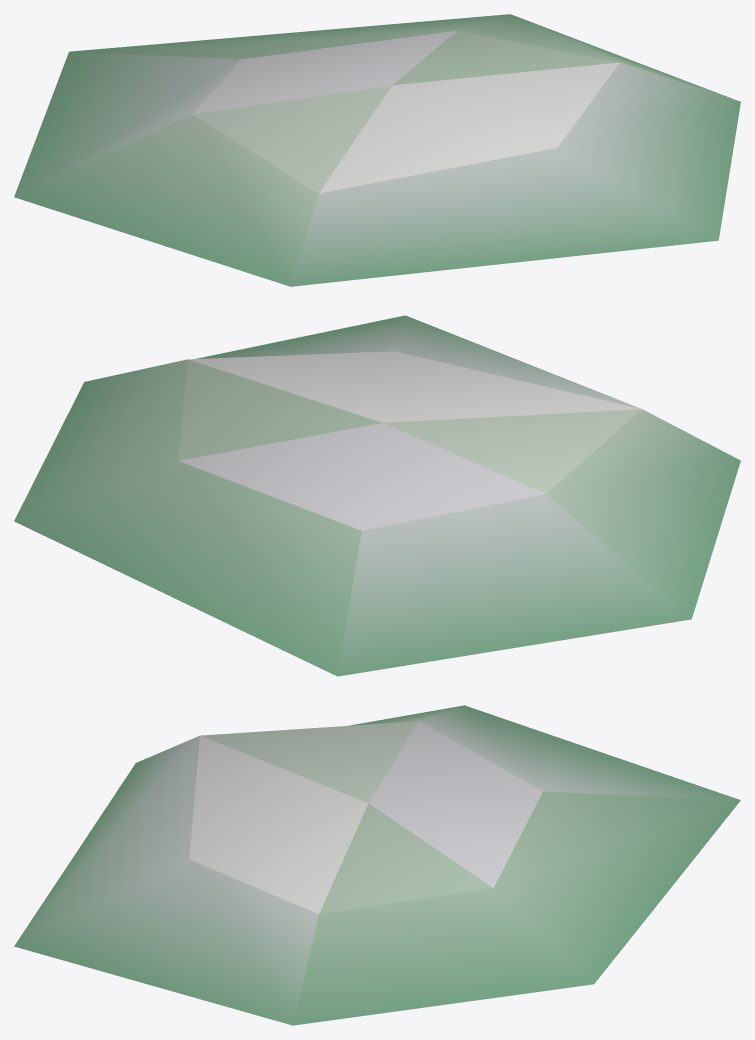
Rendered from anemone_patch_a_far.glb.
The picture shows the model from 3 angles, top to bottom: view 1: azimuth 30°, elevation 25°; view 2: azimuth 150°, elevation 25°; view 3: azimuth 270°, elevation 25°; orthographic projection. The views are drawn at different scales.
Parts seen in each view (by area): view 1: soft; view 2: soft; view 3: soft.
Boxes of the visible parts, bbox=[...] form: soft: bbox=[14, 14, 740, 286]; soft: bbox=[14, 315, 740, 676]; soft: bbox=[14, 705, 740, 1025].
Bounding box in the file's own units: 0.8936 × 0.087 × 0.8572.
